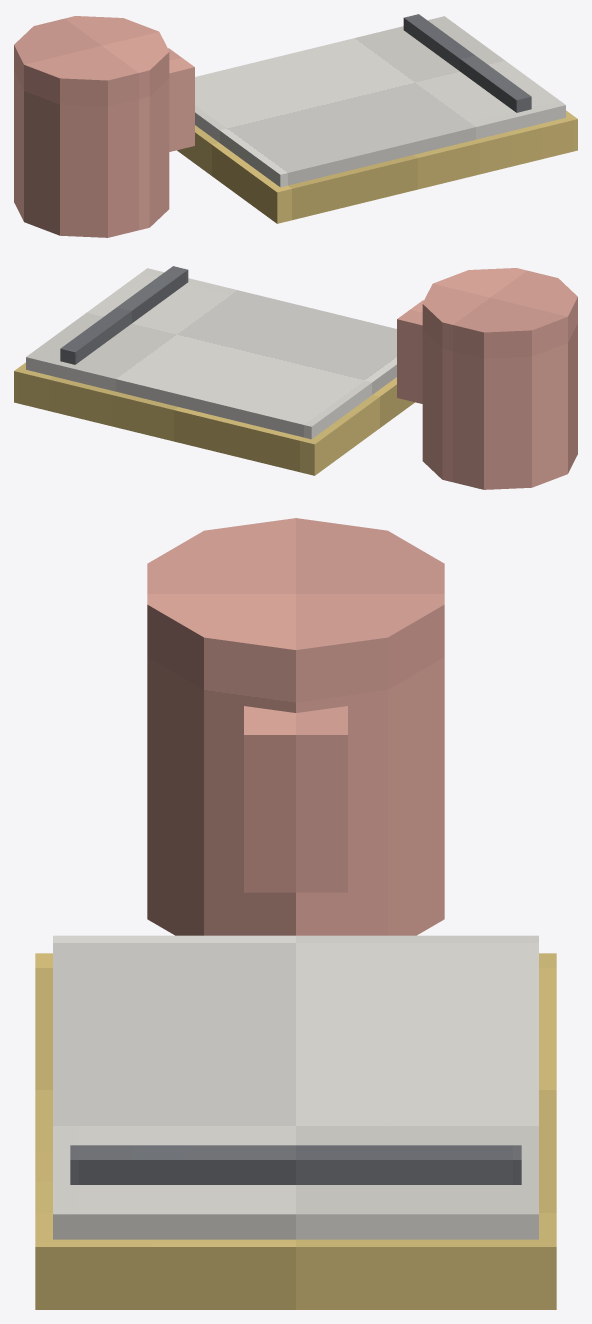
File: pixel-modern-office-mug-and-notebook-7ac38bf9.glb
3 views of the same model, one above another, from view 1: azimuth 30°, elevation 25°; view 2: azimuth 150°, elevation 25°; view 3: azimuth 270°, elevation 25° (orthographic). The views are drawn at different scales.
Visible parts, largest first — view 1: mug-and-notebook; view 2: mug-and-notebook; view 3: mug-and-notebook.
Part boxes in pixels (left/top/right/bottom): mug-and-notebook: left=14, top=14, right=577, bottom=237; mug-and-notebook: left=14, top=266, right=577, bottom=489; mug-and-notebook: left=35, top=518, right=556, bottom=1309.
Size of the model in its own units: 0.325 by 0.1 by 0.15.
Materials: 4 (4 with a texture image).
